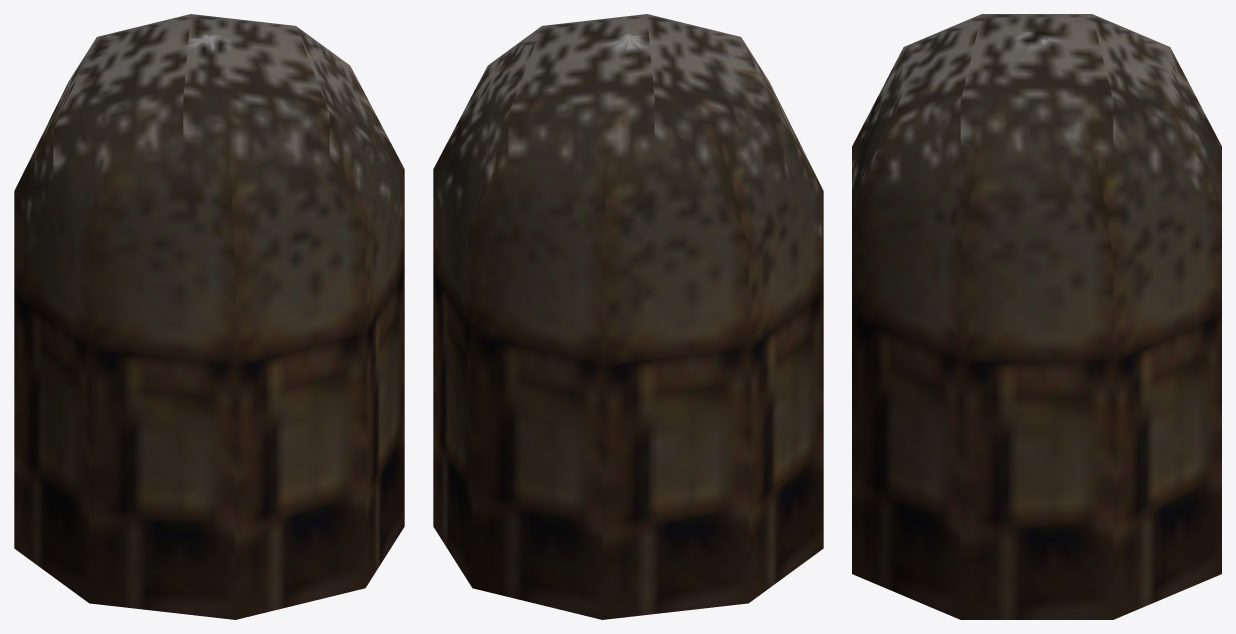
Rendered from prop-046.glb.
3 renders of one model, left to right at view 1: azimuth 30°, elevation 25°; view 2: azimuth 150°, elevation 25°; view 3: azimuth 270°, elevation 25°, orthographic.
Visible parts, largest first — view 1: root; view 2: root; view 3: root.
Part boxes in pixels (box(x1,y1,x2,y2)): root: box(14, 14, 404, 619); root: box(433, 14, 823, 619); root: box(852, 14, 1221, 619).
Size of the model in its own units: 0.9238 by 1.4 by 0.9238.
Materials: 1 (1 with a texture image).
